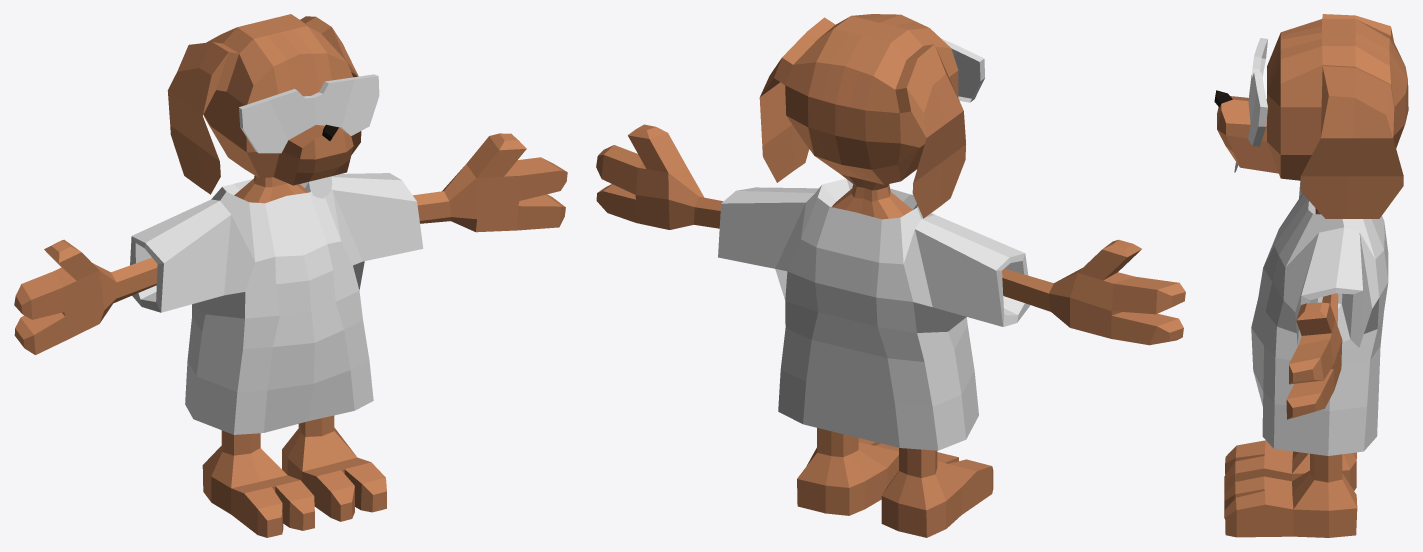
Rendered from COOLDAWGIE.fbx.
The picture shows the model from 3 angles, left to right: view 1: azimuth 30°, elevation 25°; view 2: azimuth 150°, elevation 25°; view 3: azimuth 270°, elevation 25°; orthographic projection. The views are drawn at different scales.
Visible parts, largest first — view 1: Cube; view 2: Cube; view 3: Cube.
Part boxes in pixels (x1,y1,x2,y2): Cube: (14, 14, 567, 537); Cube: (596, 14, 1185, 537); Cube: (1214, 14, 1408, 537).
Size of the model in its own units: 827 by 662 by 246.
